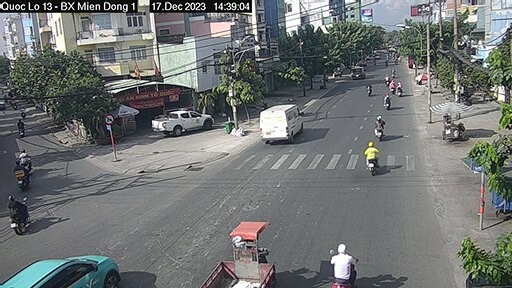car: (23, 253, 120, 288), (148, 108, 216, 141), (258, 101, 302, 140)
motorbike: (10, 195, 32, 236), (364, 145, 386, 170), (11, 166, 30, 189), (372, 118, 392, 139), (382, 90, 393, 112)
